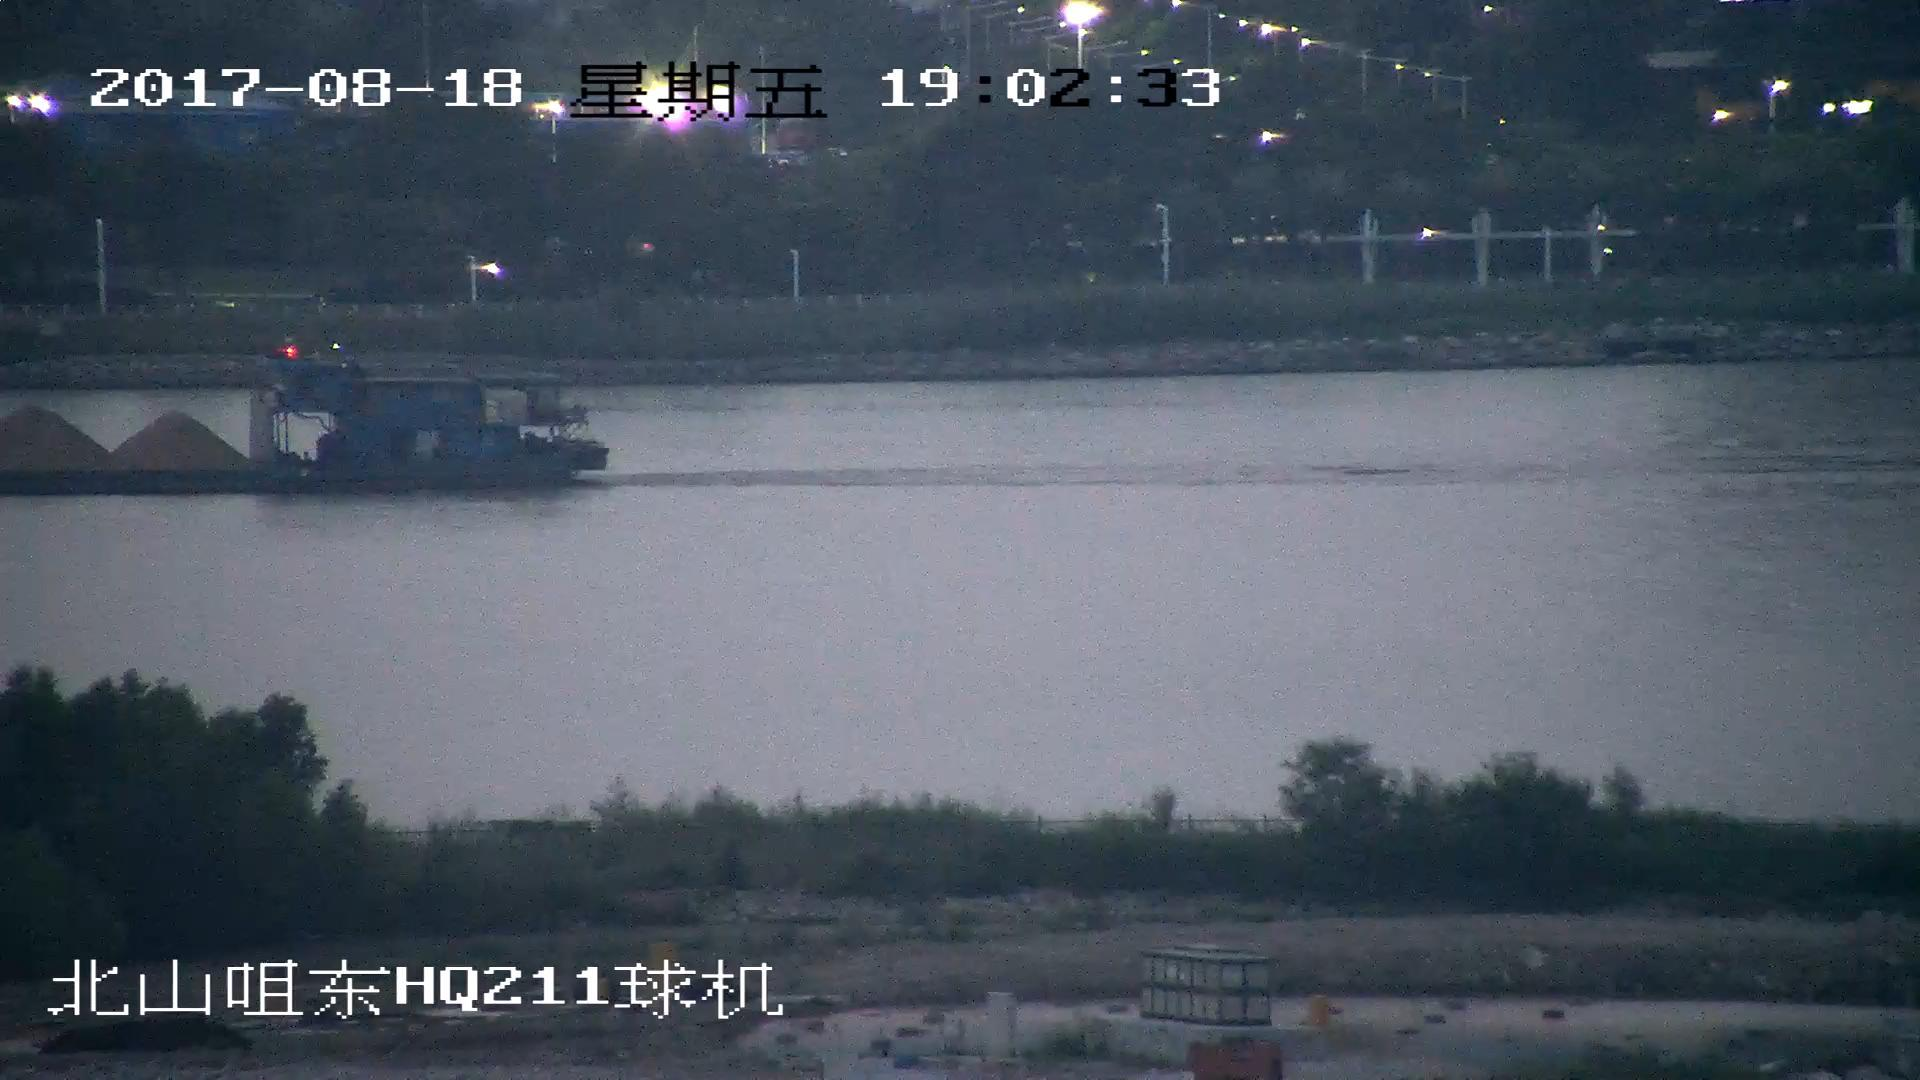Ship: (3, 339, 612, 491)
